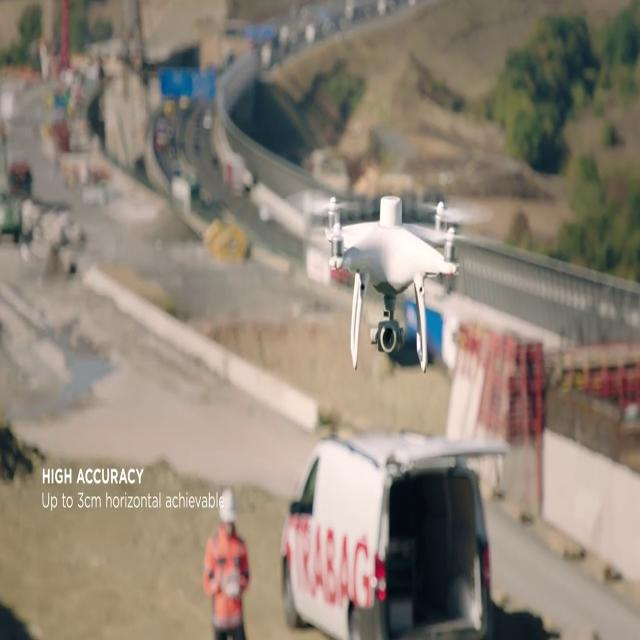drone: (293, 191, 493, 372)
